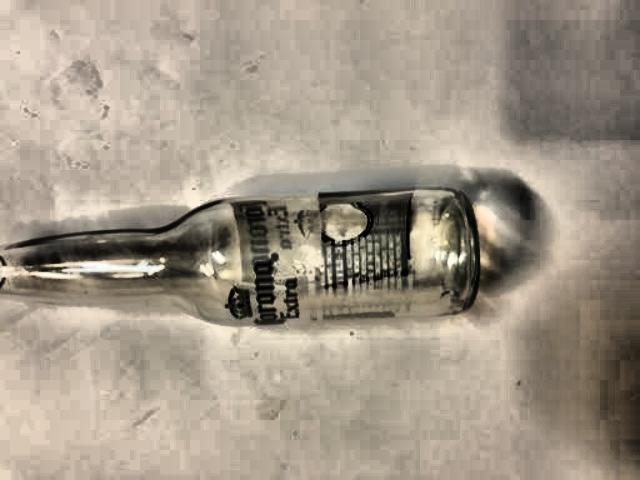Bottles: (0, 176, 494, 351)
